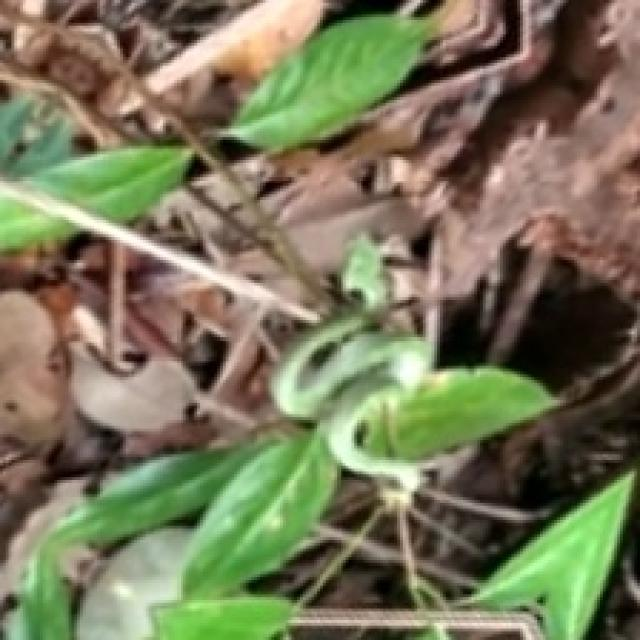north ph temple pitviper: (272, 235, 552, 488)
